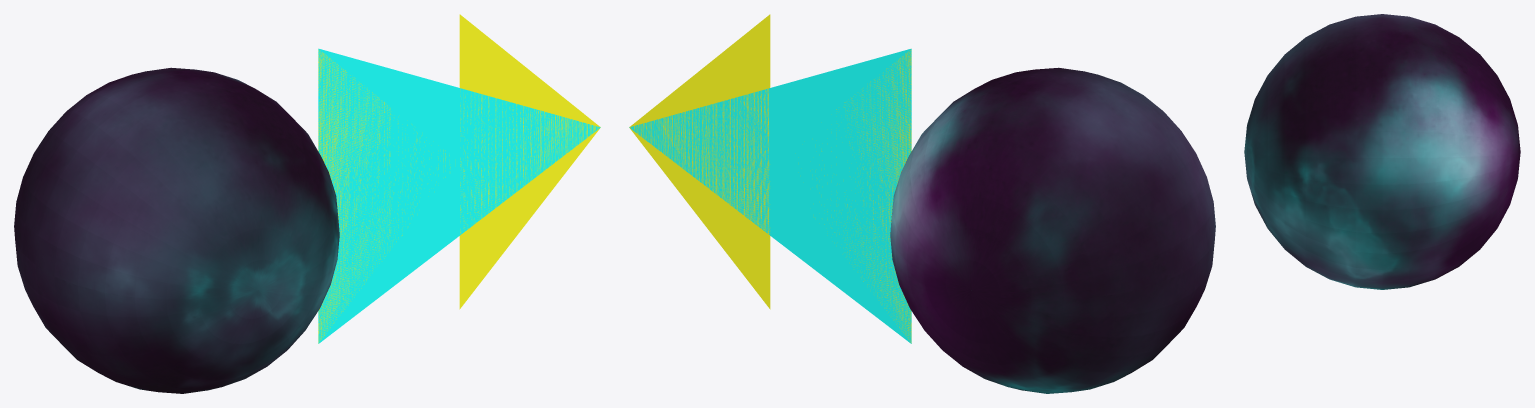
Rendered from relative.glb.
3 views of the same model, side by side, from view 1: azimuth 30°, elevation 25°; view 2: azimuth 150°, elevation 25°; view 3: azimuth 270°, elevation 25° (orthographic). The views are drawn at different scales.
Parts seen in each view (by area): view 1: clouds, beat, sustain; view 2: clouds, beat, sustain; view 3: clouds.
Part boxes in pixels (x1=…): clouds: x1=14, y1=67, x2=339, y2=393; beat: x1=318, y1=48, x2=600, y2=343; sustain: x1=318, y1=14, x2=600, y2=343; clouds: x1=890, y1=67, x2=1215, y2=393; beat: x1=629, y1=49, x2=911, y2=343; sustain: x1=629, y1=14, x2=911, y2=342; clouds: x1=1244, y1=14, x2=1520, y2=289.
Size of the model in its own units: 2 by 1 by 1.
3 materials, 1 textured.
